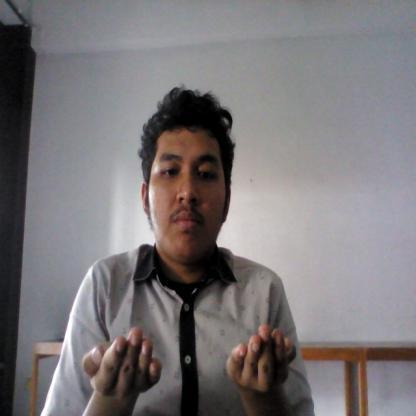Apa: (75, 324, 303, 404)
